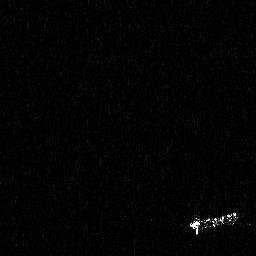ship: (187, 210, 239, 237)
